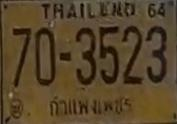0: (34, 26, 55, 86)
2: (122, 25, 143, 85)
3: (145, 25, 166, 82), (75, 26, 95, 84)
5: (98, 26, 118, 84)
7: (12, 27, 30, 84)
KPT: (42, 93, 135, 121)
